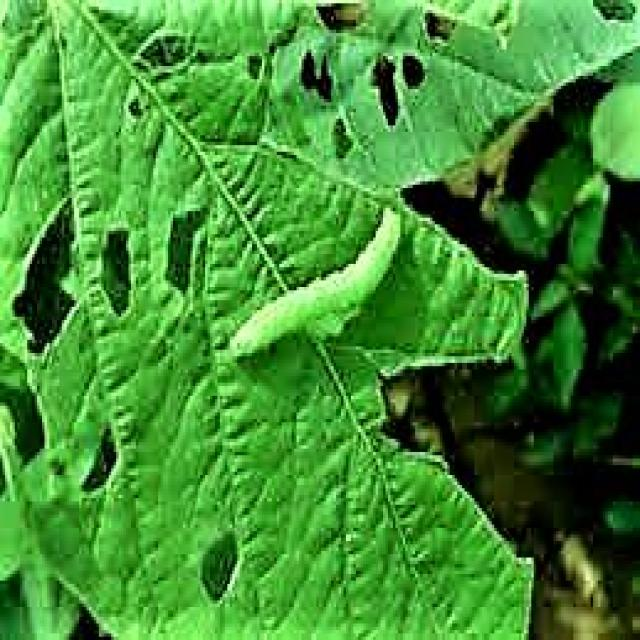Armyworm: (232, 198, 437, 427)
Armyworm_damage: (172, 500, 280, 640), (1, 182, 91, 346), (147, 168, 208, 304), (345, 47, 418, 147), (88, 205, 146, 327), (59, 424, 133, 504), (289, 41, 349, 121), (407, 1, 481, 64), (104, 91, 172, 145), (310, 3, 375, 51), (246, 57, 268, 85)
